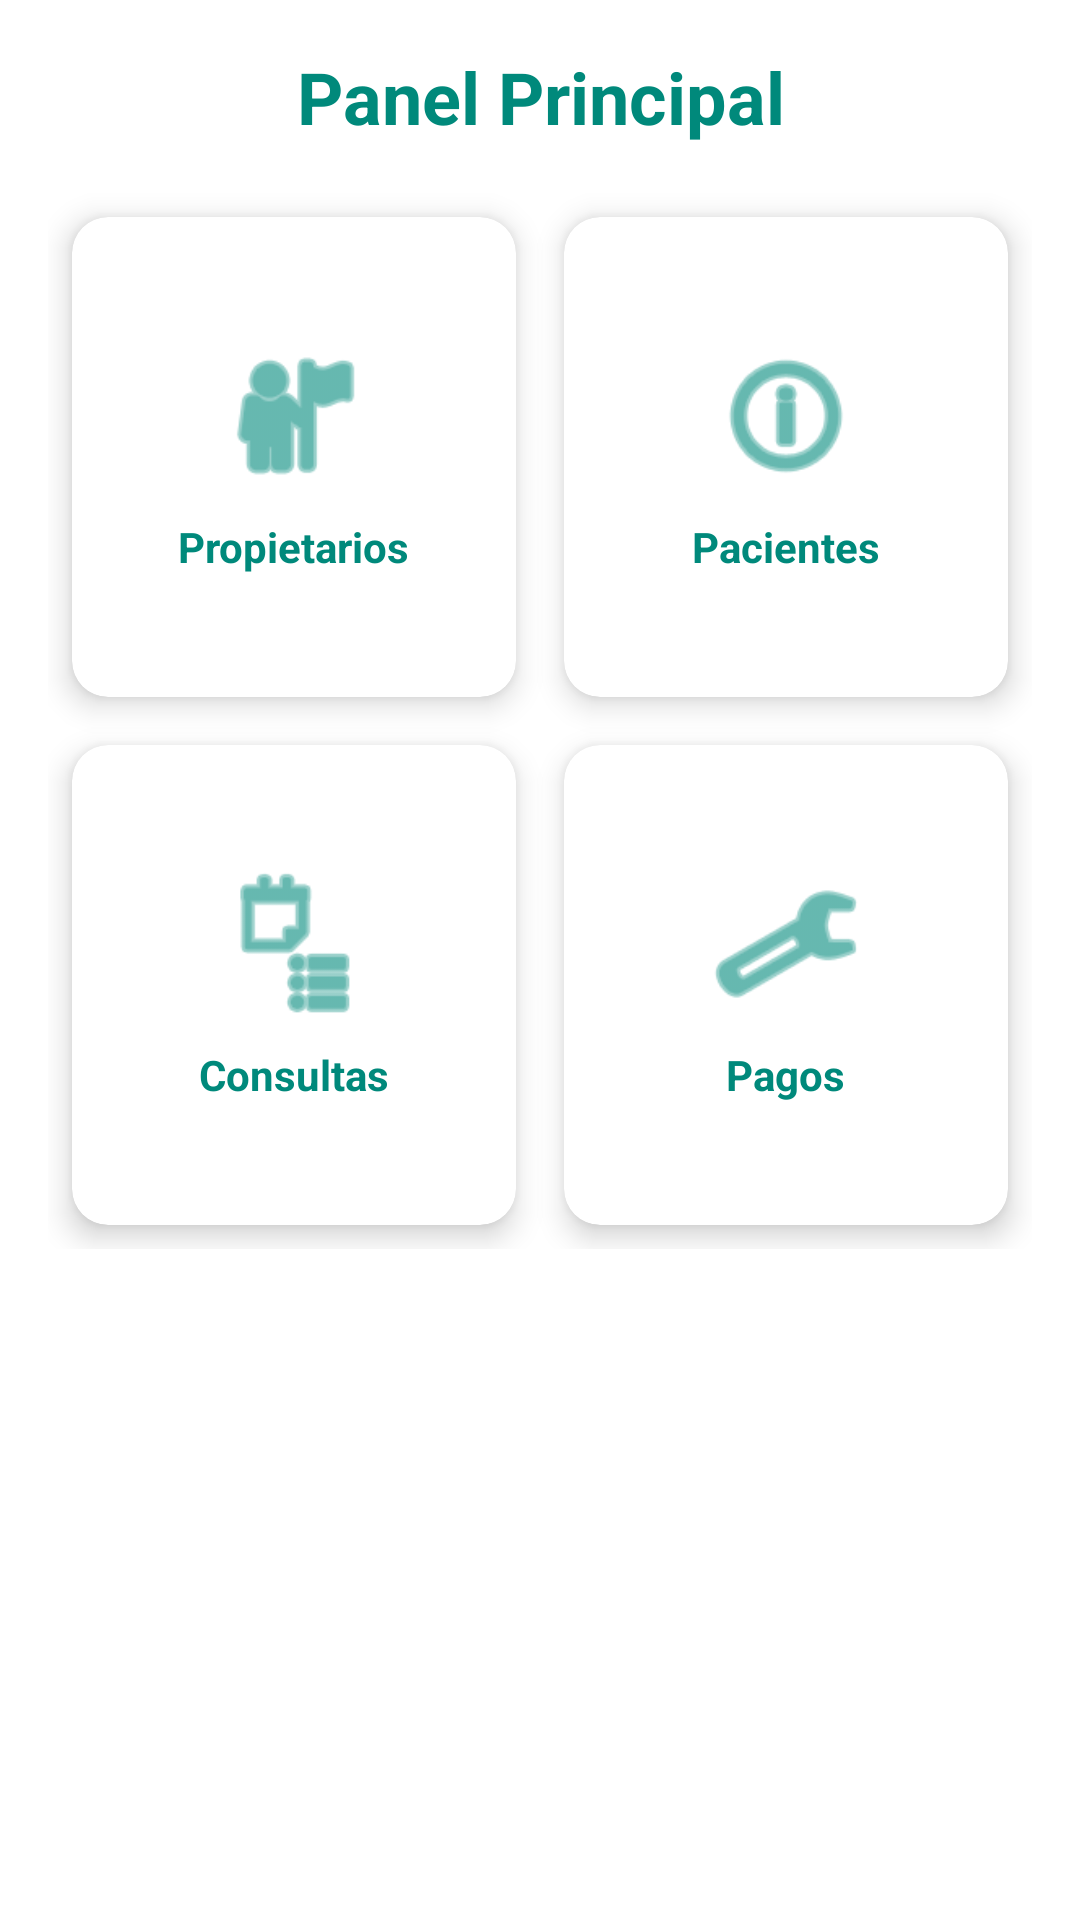

Screen size 1080*1920. Icon name, then its box in pixels as (x1, y1, x2, y2):
agenda: (240, 874, 350, 1013)
info details: (729, 360, 843, 472)
manage: (715, 890, 856, 998)
myplaces: (237, 358, 354, 474)
